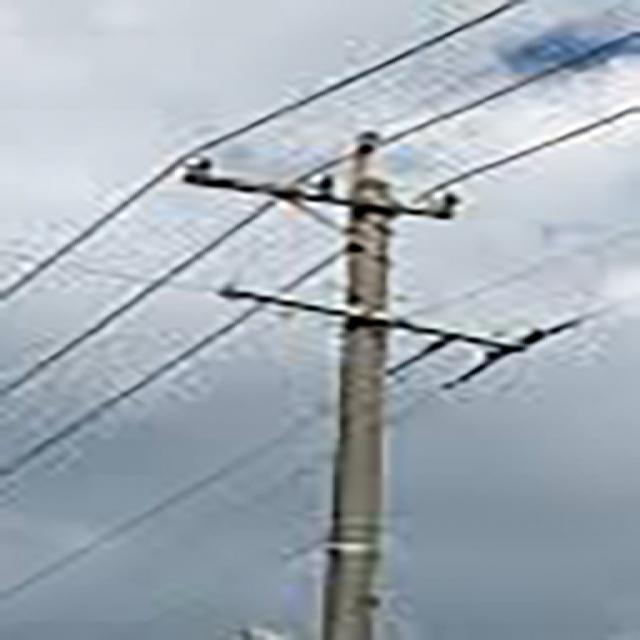pole: (147, 120, 551, 640)
